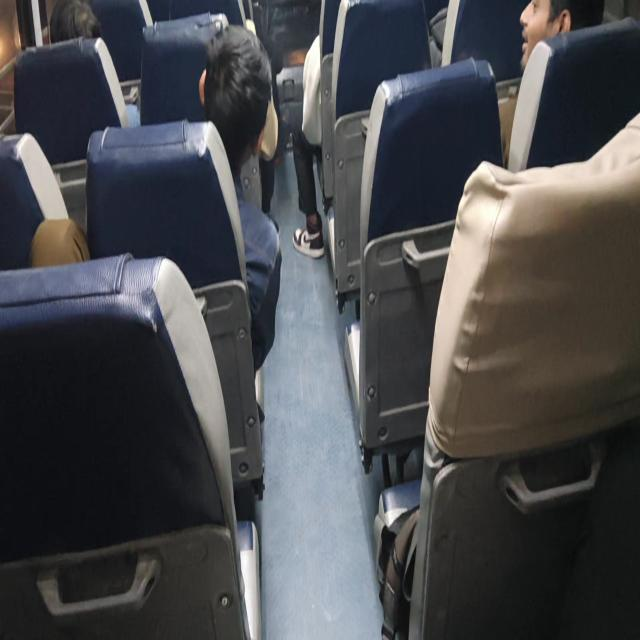person: (29, 22, 282, 374), (198, 23, 282, 374), (291, 0, 362, 259), (497, 0, 604, 166), (49, 0, 139, 128), (291, 32, 325, 260), (518, 0, 604, 74), (48, 0, 102, 43)
